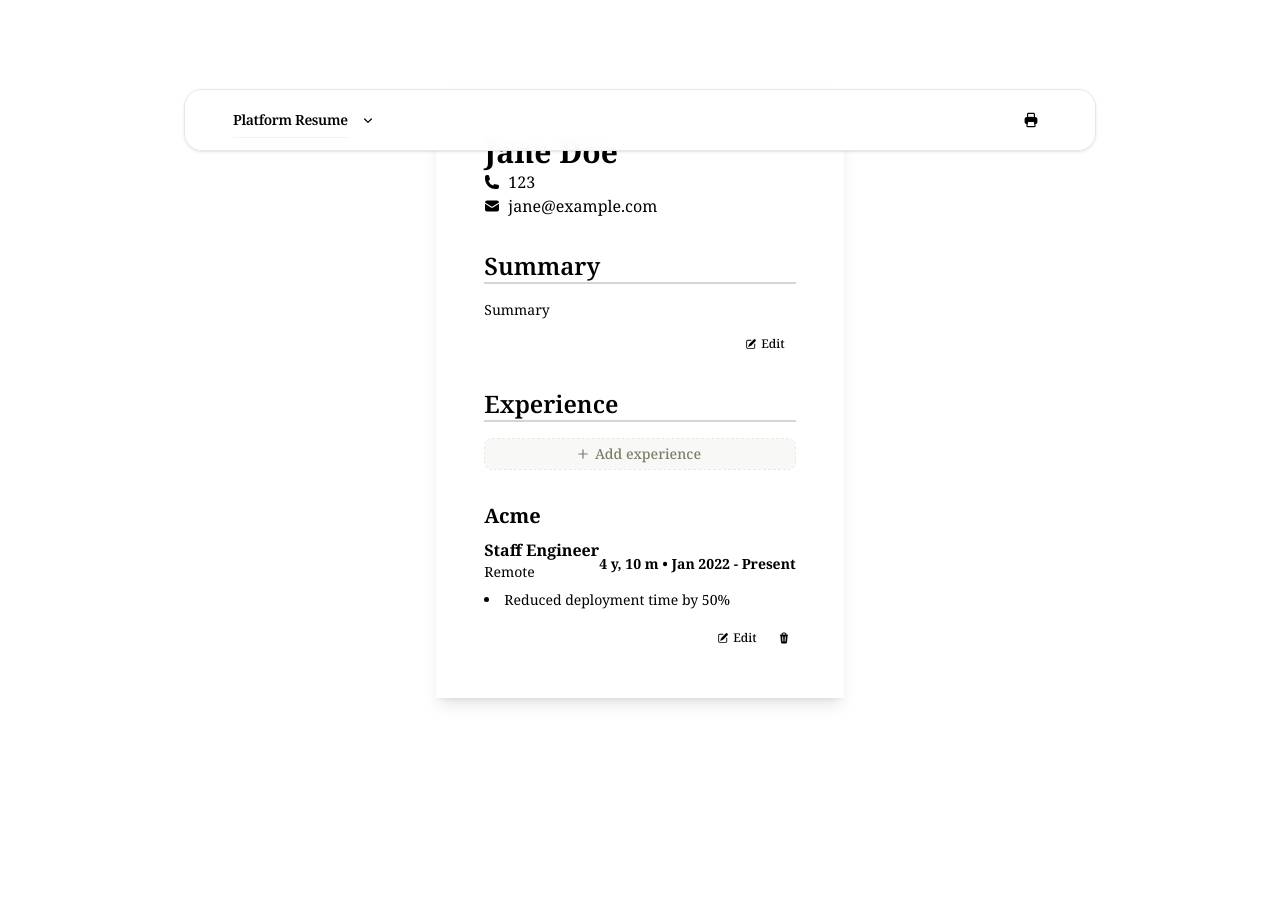
ResumeDetailClient › cancelling the delete confirmation closes it without deleting
The image size is (1280, 900).
Click the button named "Resume actions" at {"x": 368, "y": 120}, box [352,104,384,136]
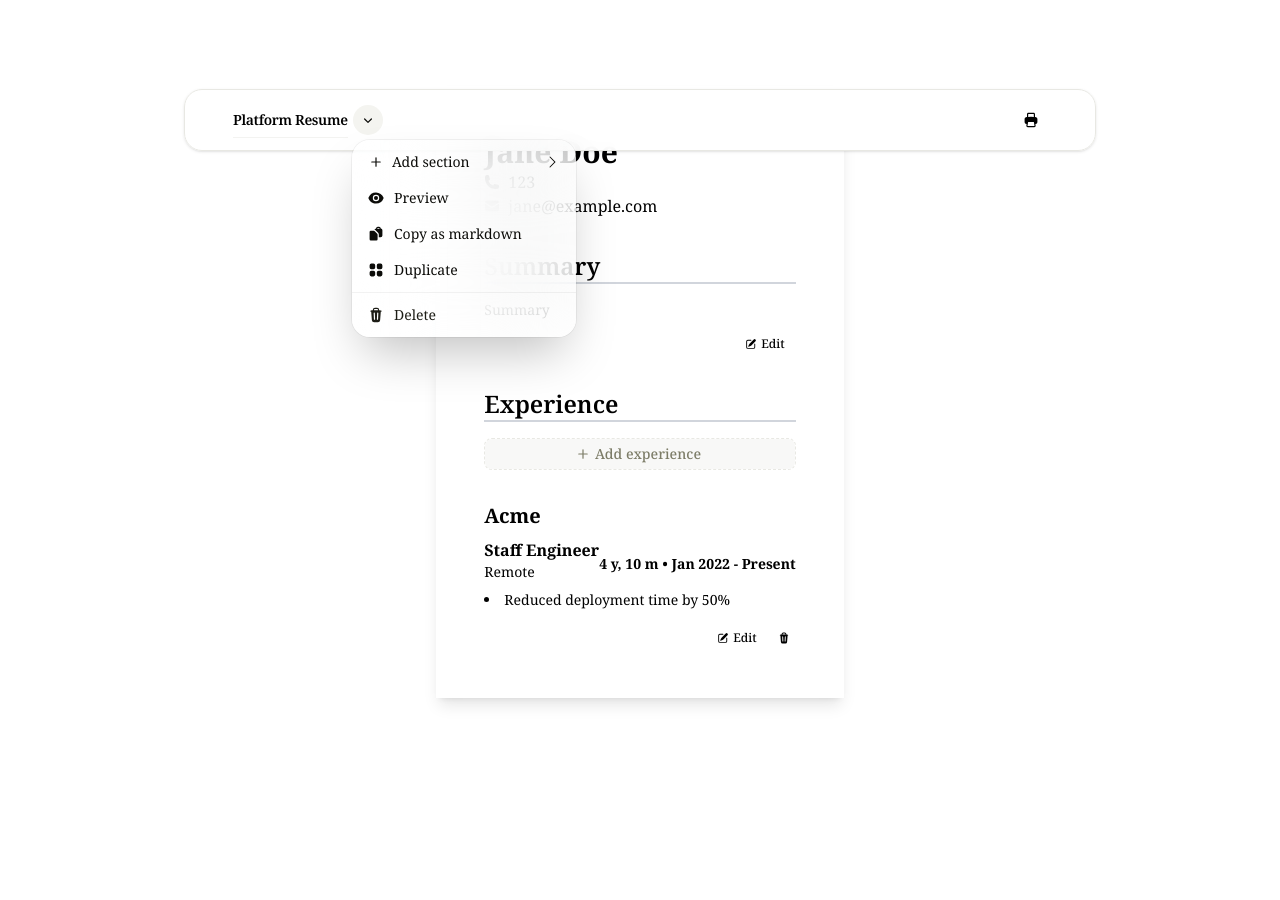
Click the menu item "Delete" at {"x": 402, "y": 314}, box [368,305,436,324]
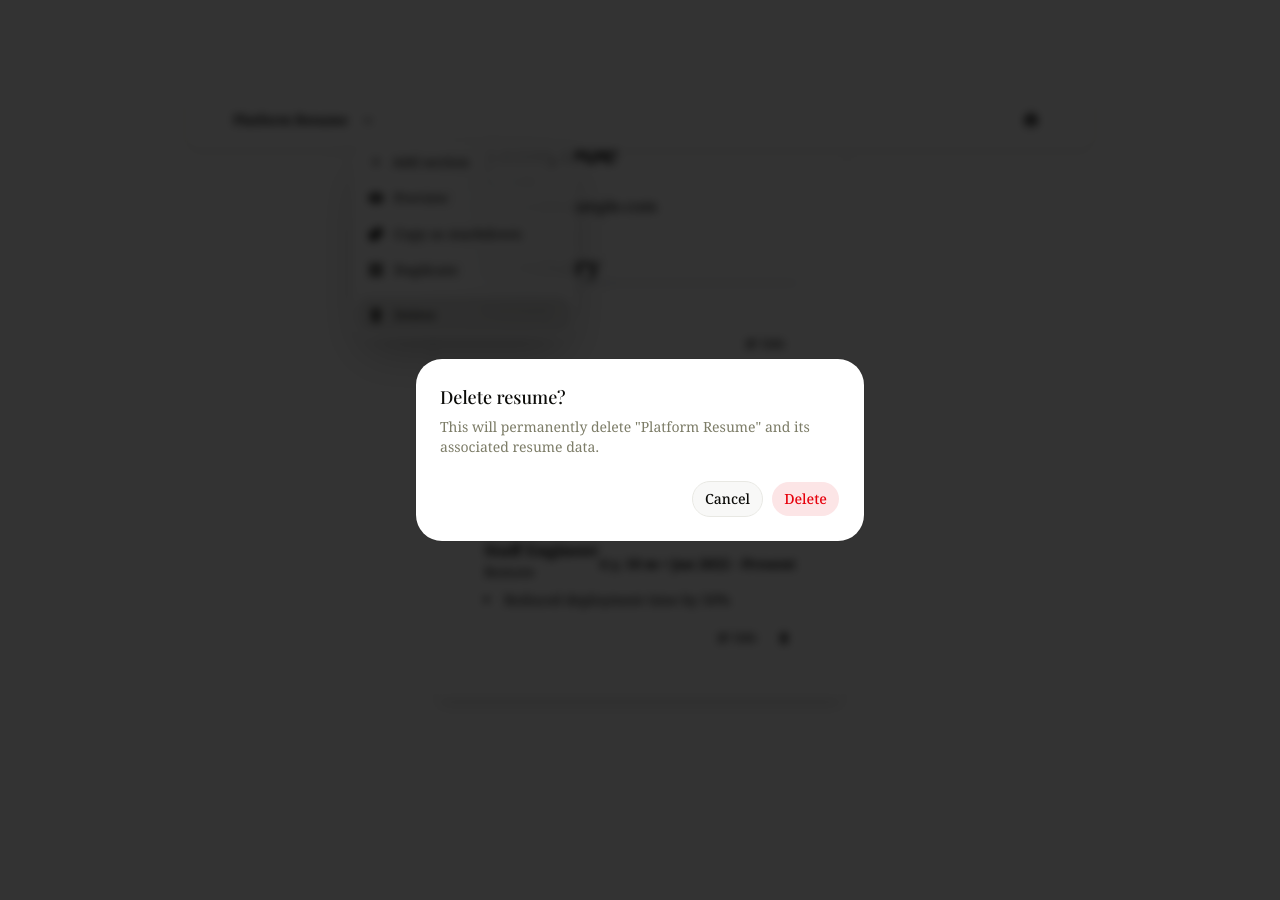
Expected: the dialog is shown, [416,359,864,541]
Click the button "Cancel" at {"x": 728, "y": 499}, box [692,481,763,517]
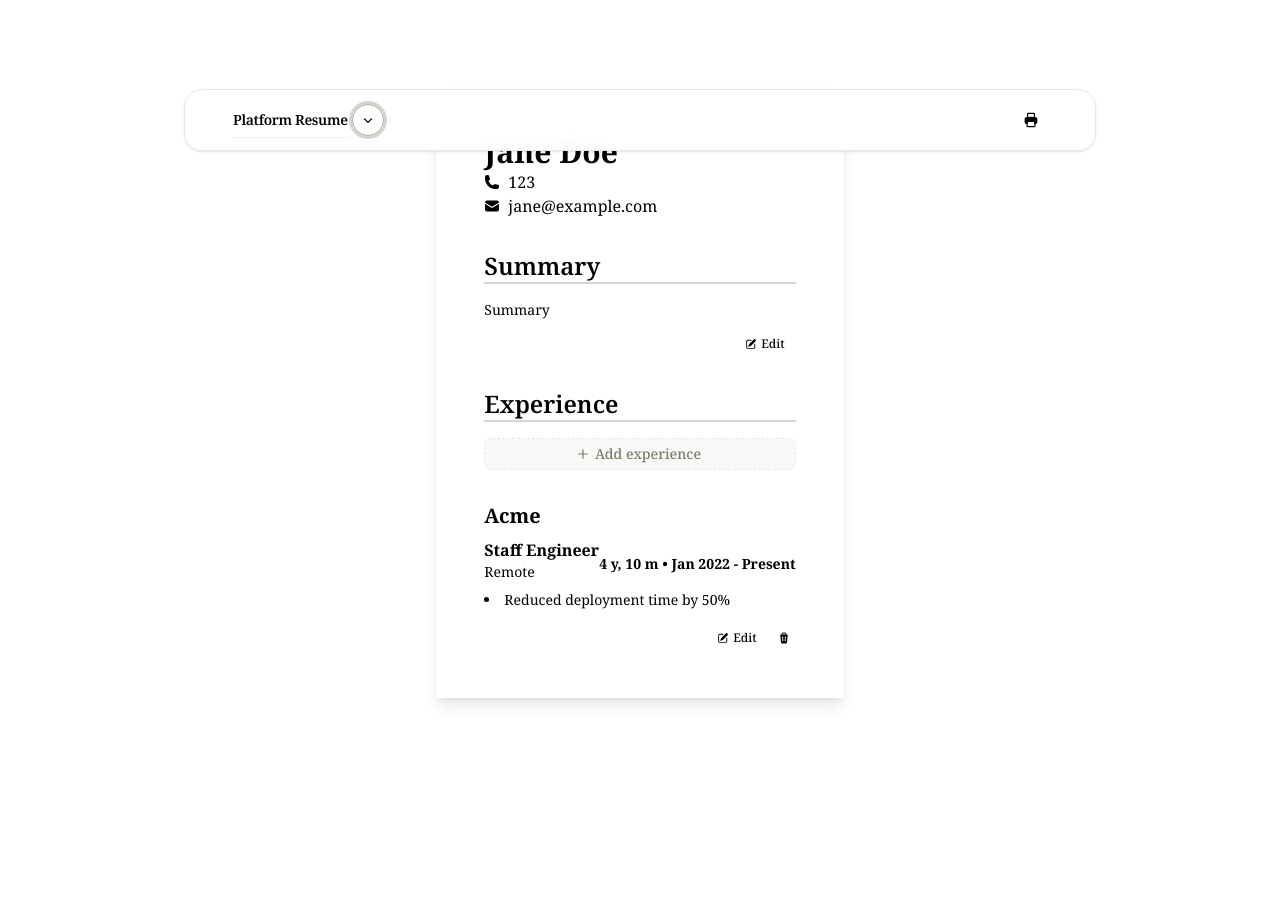
Expected: the dialog is gone
